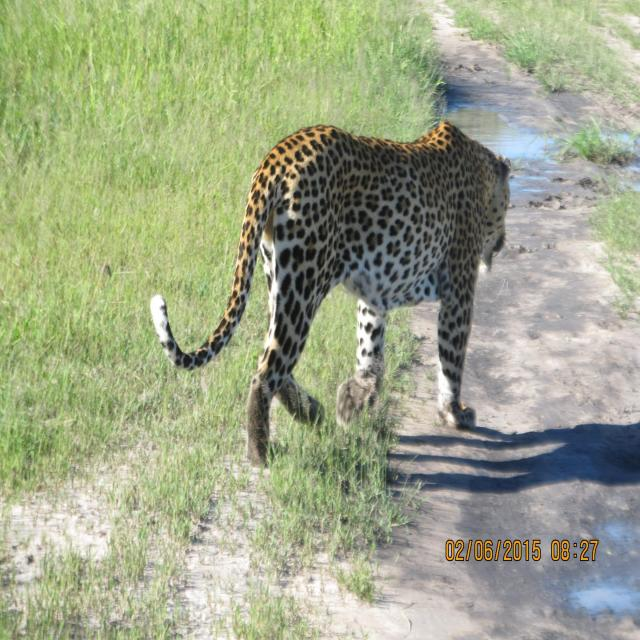Leopard: (140, 95, 530, 461)
